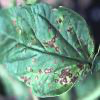Tomato Septoria leaf spot: (0, 2, 92, 98)
